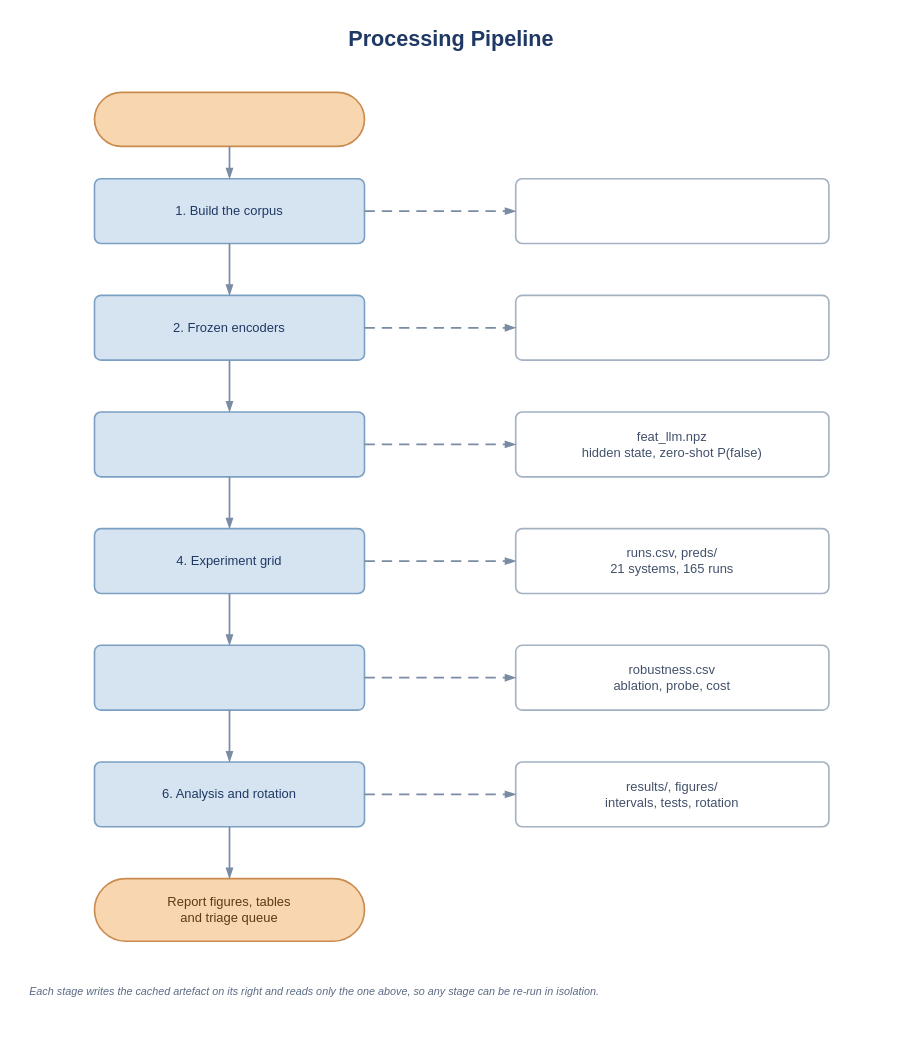
Some shapes in this 901 by 1043 pixel diagram are drawn without their labels. Each missing label, with the box of its shape:
3. Language model: (93, 411, 365, 477)
5. Robustness suite: (93, 644, 365, 710)
corpus.parquet 21,798 posts, three splits: (514, 177, 829, 244)
Fakeddit metadata and images: (93, 91, 365, 147)
feat_base.npz CLIP, DistilRoBERTa, consistency: (514, 294, 829, 361)
